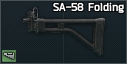SA-58 folding stock: (0, 0, 127, 64)
